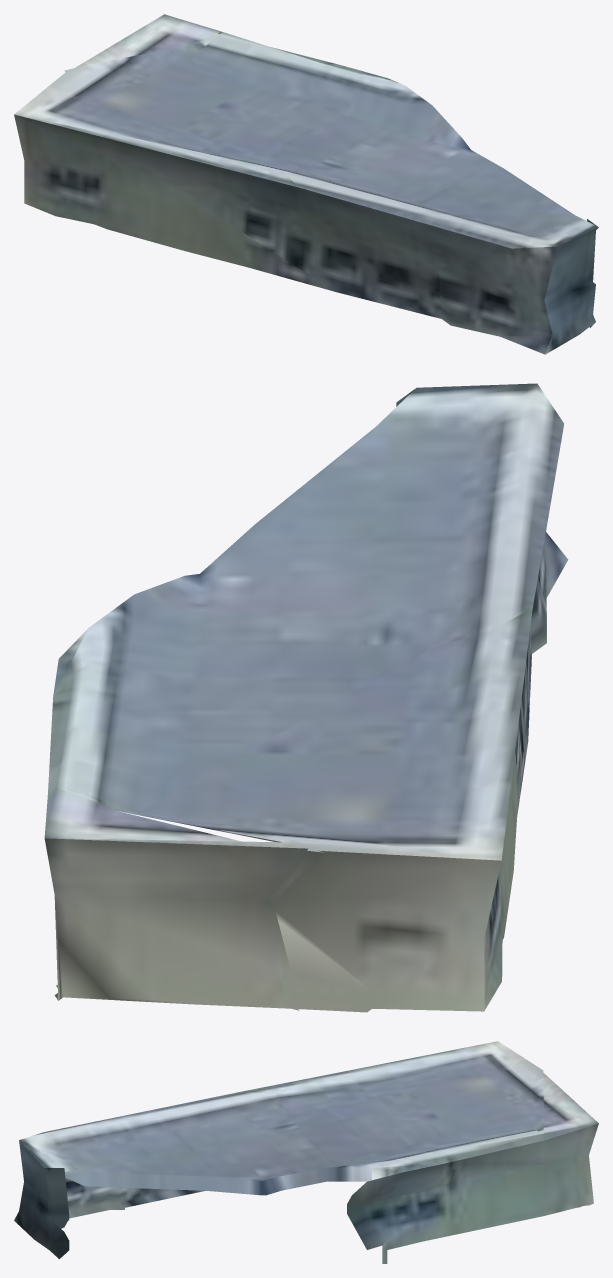
3 renders of one model, top to bottom at view 1: azimuth 30°, elevation 25°; view 2: azimuth 150°, elevation 25°; view 3: azimuth 270°, elevation 25°, orthographic. The views are drawn at different scales.
Parts seen in each view (by area): view 1: 30436272704370615773_0; view 2: 30436272704370615773_0; view 3: 30436272704370615773_0.
Boxes of the visible parts, bbox=[...] form: 30436272704370615773_0: bbox=[14, 14, 598, 354]; 30436272704370615773_0: bbox=[44, 383, 568, 1012]; 30436272704370615773_0: bbox=[14, 1041, 598, 1263].
Bounding box in the file's own units: 9.52 × 3.39 × 17.89.
1 material, 1 textured.
